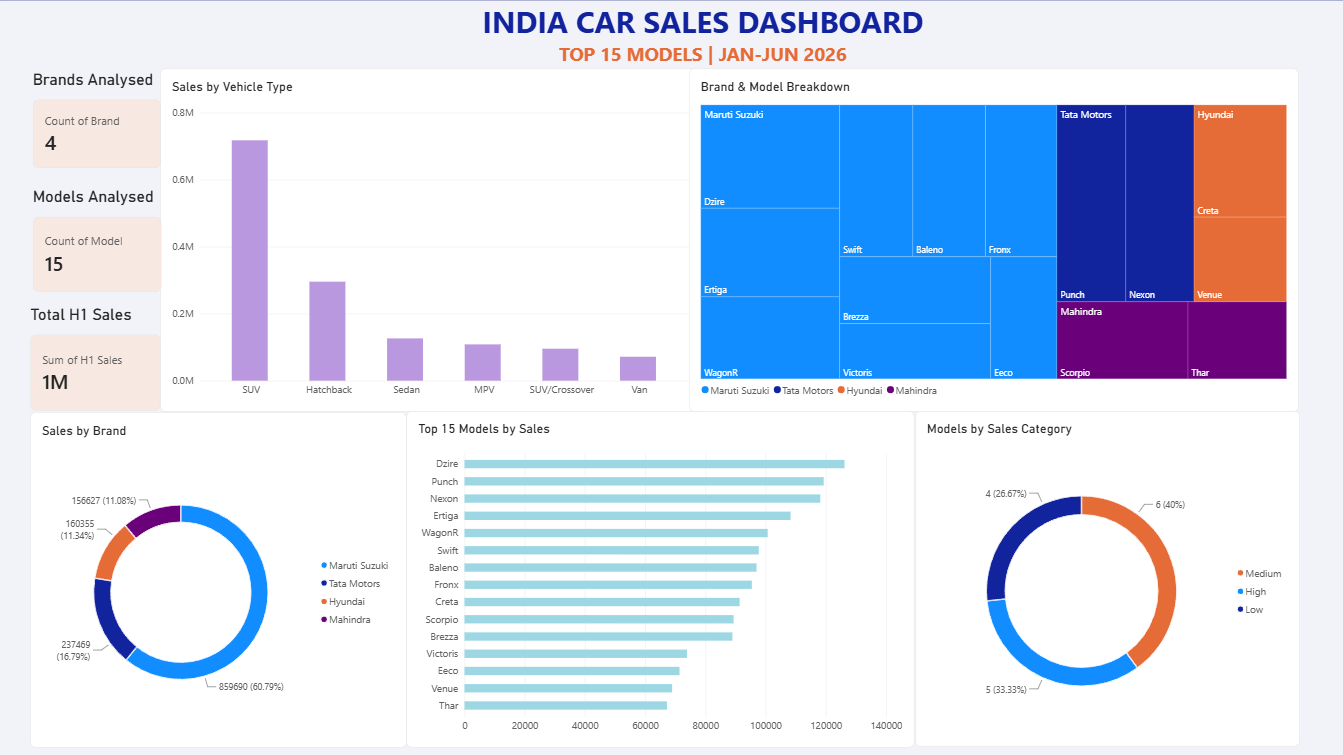

Layout of this report page (visuals, bound fields, positions):
{"tool":"powerbi","page":{"name":"Page 1","canvas":[1920,1080],"ordinal":0},"visuals":[{"type":"clusteredBarChart","title":"Top 15 Models by Sales","fields":{"Category":["CarSalesH1.Model"],"Y":["Sum(CarSalesH1.H1 Sales)"]},"box":[582.9,586.2,725.3,480.7],"z":0},{"type":"donutChart","title":"Sales by Brand","fields":{"Category":["CarSalesH1.Brand"],"Y":["Sum(CarSalesH1.H1 Sales)"]},"box":[45.2,587.9,537.7,479],"z":1000},{"type":"textbox","box":[410.4,0,1189.2,97.1],"z":2000},{"type":"lineClusteredColumnComboChart","title":"Sales by Vehicle Type","fields":{"Category":["CarSalesH1.Vehicle Type"],"Y":["Sum(CarSalesH1.H1 Sales)"]},"box":[231.1,97.1,773.8,490.8],"z":4000},{"type":"donutChart","title":"Models by Sales Category","fields":{"Category":["CarSalesH1.Sales Category"],"Y":["CountNonNull(CarSalesH1.Model)"]},"box":[1308.1,586.2,549.4,479],"z":5000},{"type":"treemap","title":"Brand & Model Breakdown","fields":{"Details":["CarSalesH1.Model"],"Group":["CarSalesH1.Brand"],"Values":["Sum(CarSalesH1.H1 Sales)"]},"box":[986.5,97.1,871,490.8],"z":5001},{"type":"cardVisual","title":"Total H1 Sales","fields":{"Data":["Sum(CarSalesH1.H1 Sales)"]},"box":[45.3,434.3,186.6,151.7],"z":5002},{"type":"cardVisual","title":"Models Analysed","fields":{"Data":["Count(CarSalesH1.Model)"]},"box":[48.8,266.9,184.9,150],"z":5003},{"type":"cardVisual","title":"Brands Analysed","fields":{"Data":["Count(CarSalesH1.Brand)"]},"box":[48.8,97.7,183.1,141.3],"z":5004}]}

Visuals, with their boxes in screenshot pixels (x1, y1, x2, y2), scaled from the page's 1920x1080 canvas onto the 1343x755 screenshot:
"Top 15 Models by Sales" clusteredBarChart: 408 410 915 746
"Sales by Brand" donutChart: 32 411 408 746
textbox: 287 0 1119 68
"Sales by Vehicle Type" lineClusteredColumnComboChart: 162 68 703 411
"Models by Sales Category" donutChart: 915 410 1299 745
"Brand & Model Breakdown" treemap: 690 68 1299 411
"Total H1 Sales" cardVisual: 32 304 162 410
"Models Analysed" cardVisual: 34 187 163 291
"Brands Analysed" cardVisual: 34 68 162 167
